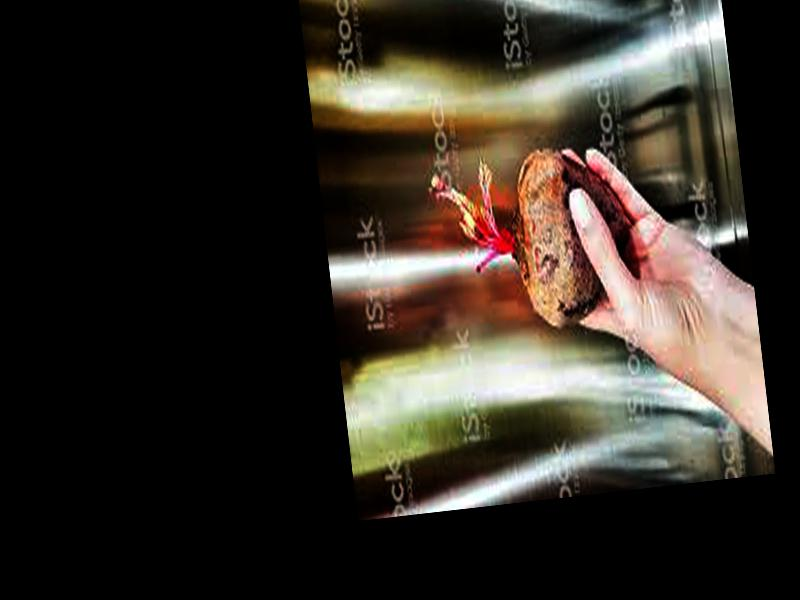Beet: (430, 140, 639, 337)
